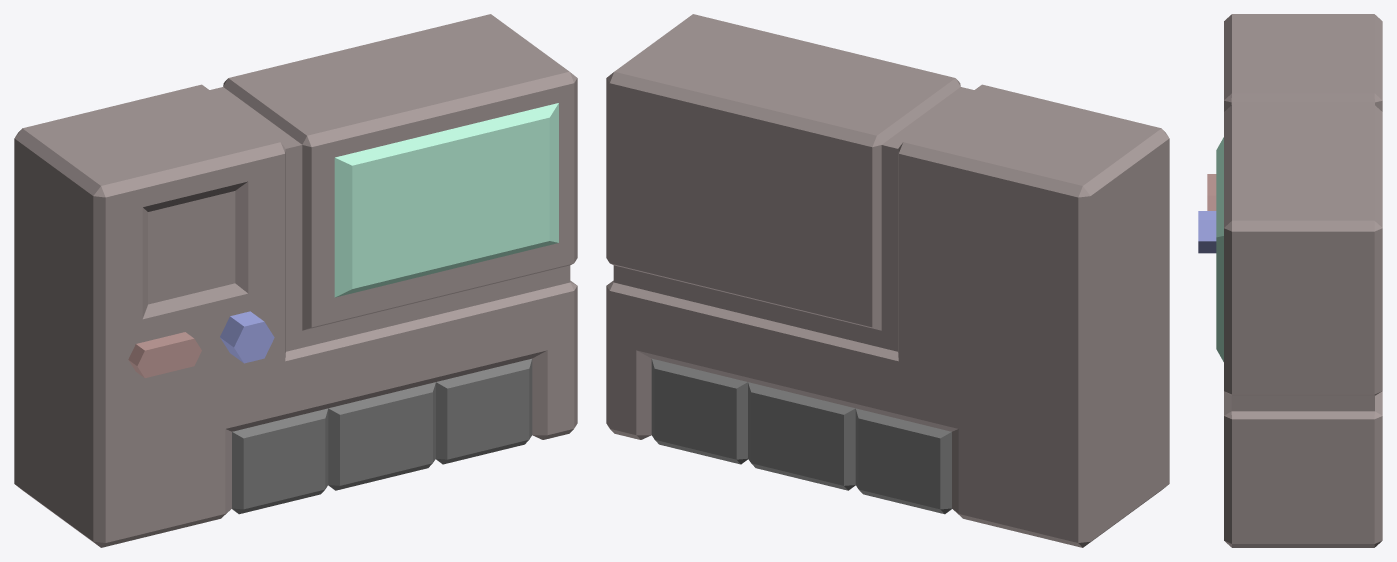
Rendered from CardModel.fbx.
3 views of the same model, side by side, from view 1: azimuth 30°, elevation 25°; view 2: azimuth 150°, elevation 25°; view 3: azimuth 270°, elevation 25° (orthographic). The views are drawn at different scales.
Visible parts, largest first — view 1: Box001; view 2: Box001; view 3: Box001.
Boxes of the visible parts, x1,y1,x2,y2 form: Box001: (14,14,577,547); Box001: (606,14,1169,547); Box001: (1198,14,1382,547).
Bounding box in the file's own units: 105 × 75 × 38.33.
